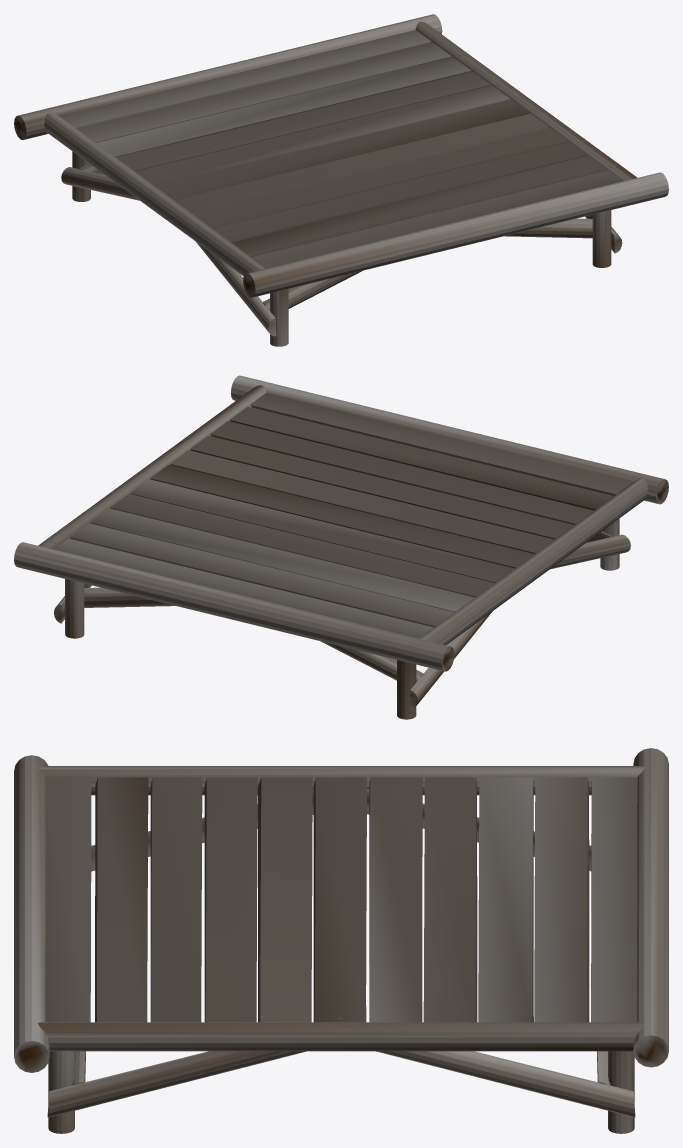
File: low_wooden_bench_38ca1b29.glb
3 views of the same model, one above another, from view 1: azimuth 30°, elevation 25°; view 2: azimuth 150°, elevation 25°; view 3: azimuth 270°, elevation 25° (orthographic). The views are drawn at different scales.
Parts seen in each view (by area): view 1: SM_Low_Wooden_Bench_M_Low_Wooden_Bench_0; view 2: SM_Low_Wooden_Bench_M_Low_Wooden_Bench_0; view 3: SM_Low_Wooden_Bench_M_Low_Wooden_Bench_0.
Part boxes in pixels (x1,y1,x2,y2): SM_Low_Wooden_Bench_M_Low_Wooden_Bench_0: [14, 14, 668, 346]; SM_Low_Wooden_Bench_M_Low_Wooden_Bench_0: [14, 375, 668, 719]; SM_Low_Wooden_Bench_M_Low_Wooden_Bench_0: [14, 748, 668, 1133].
Bounding box in the file's own units: 2.39 × 0.4653 × 2.26.
